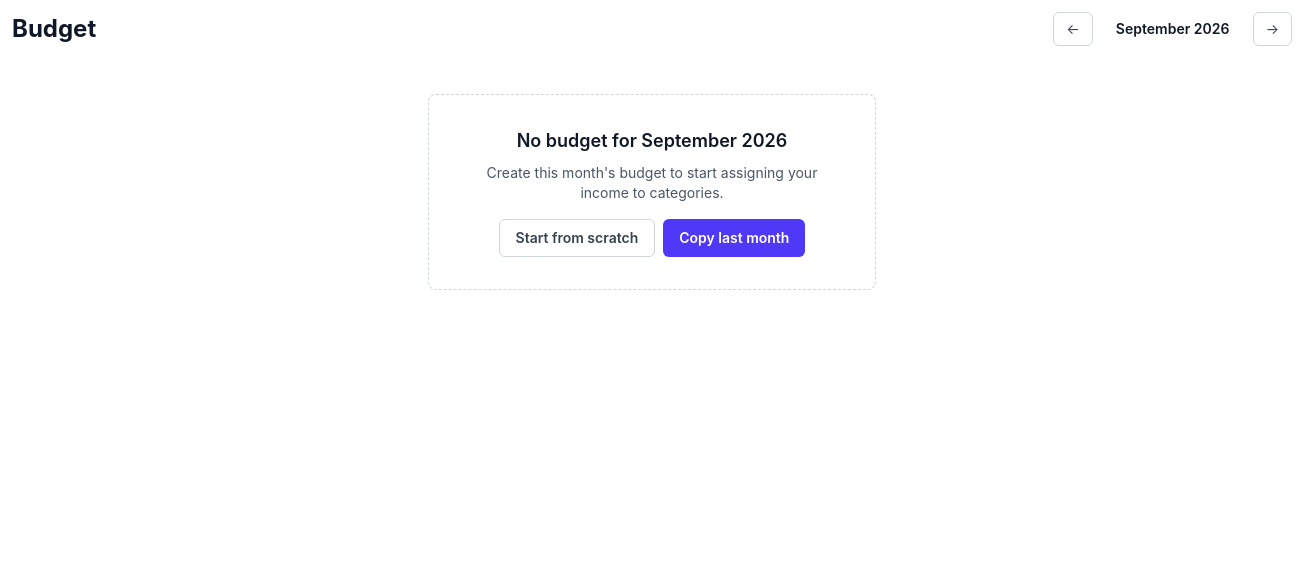
Test: BudgetPage › offers to create a missing month empty or copied from the prior month
The width and height of the screenshot is (1304, 567).
Expected: the heading "No budget for September 2026" is shown, [517,130,787,151]
Click the button "Copy last month" at (734, 238), box [663,219,805,257]
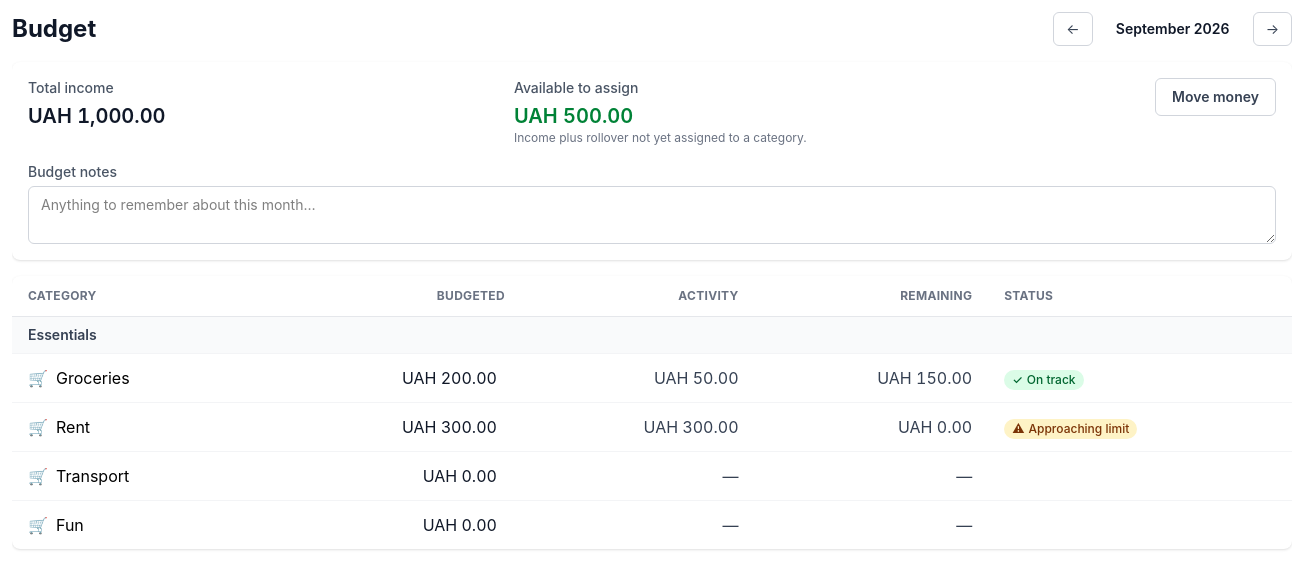
Expected: the text "Available to assign" is shown, [514,79,638,96]
